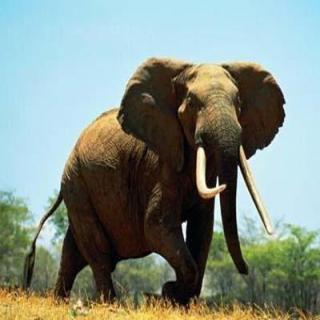Elephant: (18, 52, 288, 316)
